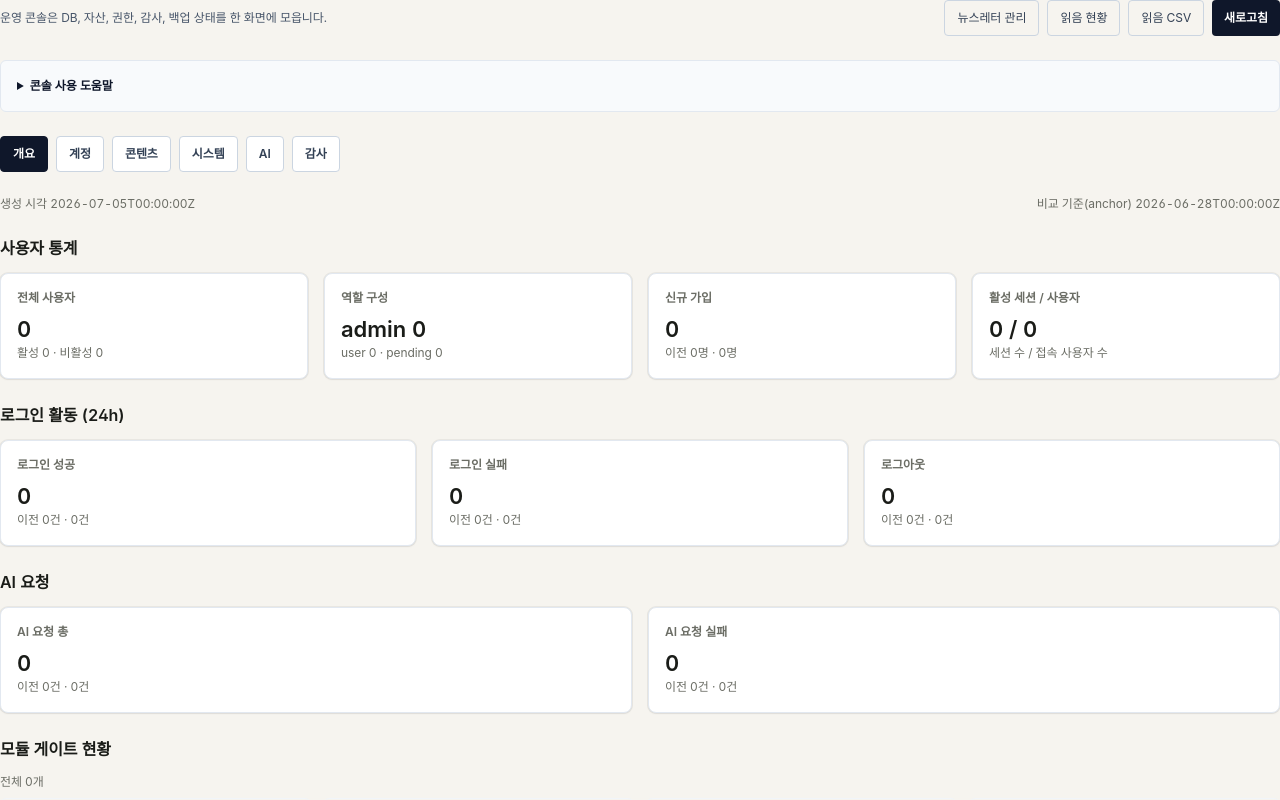
Test: 세션 tab keeps last-good dataset with a visible degraded banner after refresh failure
Click the tab "계정".
click(80, 154)  # box [56,136,104,172]
(page scrolled)
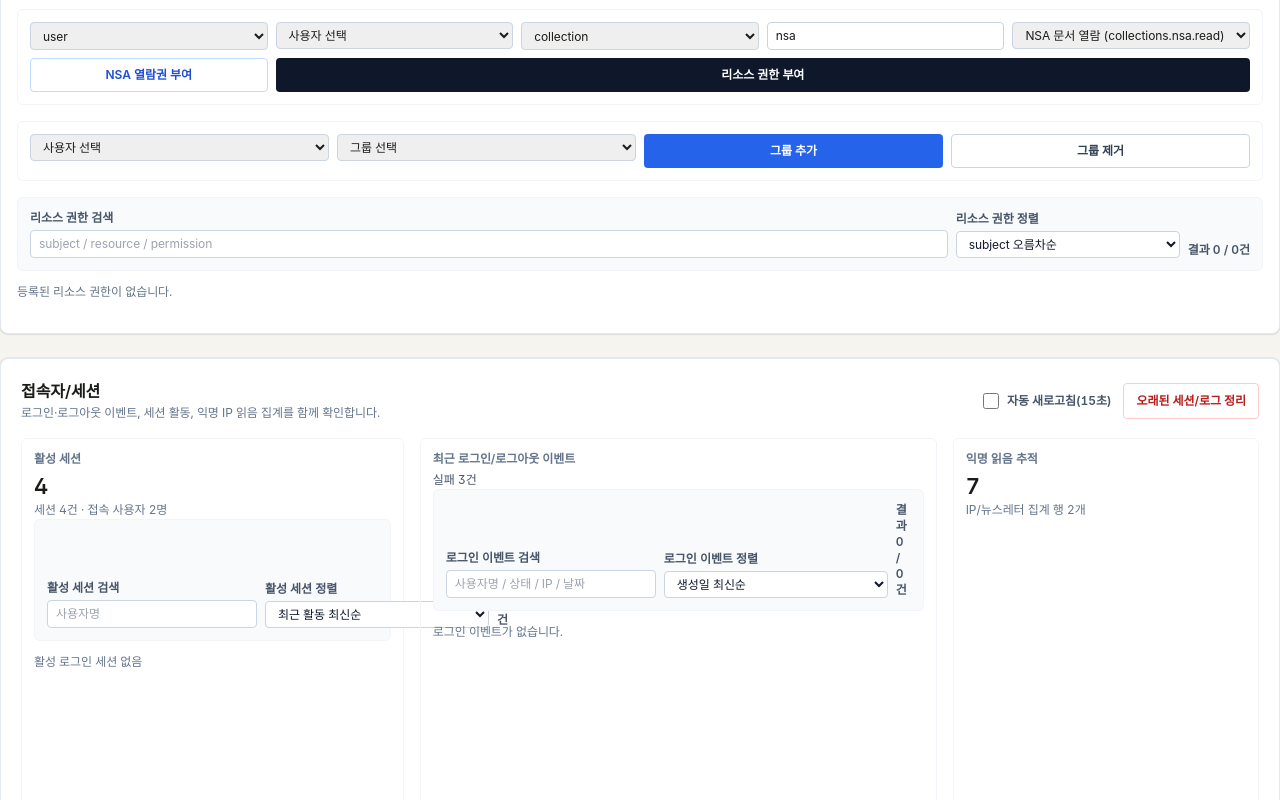
Expected: the text "세션 4건 · 접속 사용자 2명" is shown, [34,502,167,517]
Click the checkbox named "세션 자동 새로고침".
click(991, 400)  # box [983,392,999,408]
Wait 15000 ms
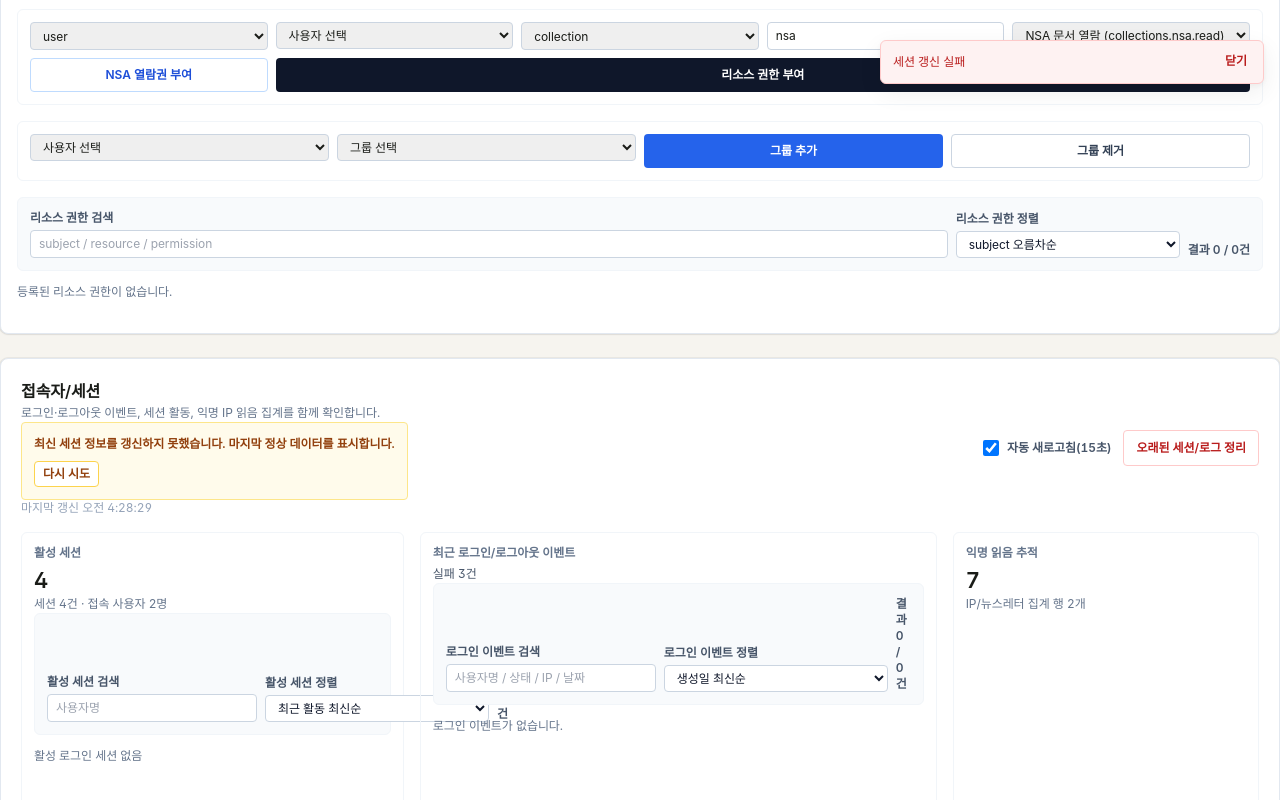
Expected: the text "세션 4건 · 접속 사용자 2명" is shown, [34,596,167,611]
Expected: the text "실패 3건" is shown, [433,566,477,581]
Expected: the text "최신 세션 정보를 갱신하지 못했습니다. 마지막 정상 데이터를 표시합니다." is shown, [34,435,395,453]
